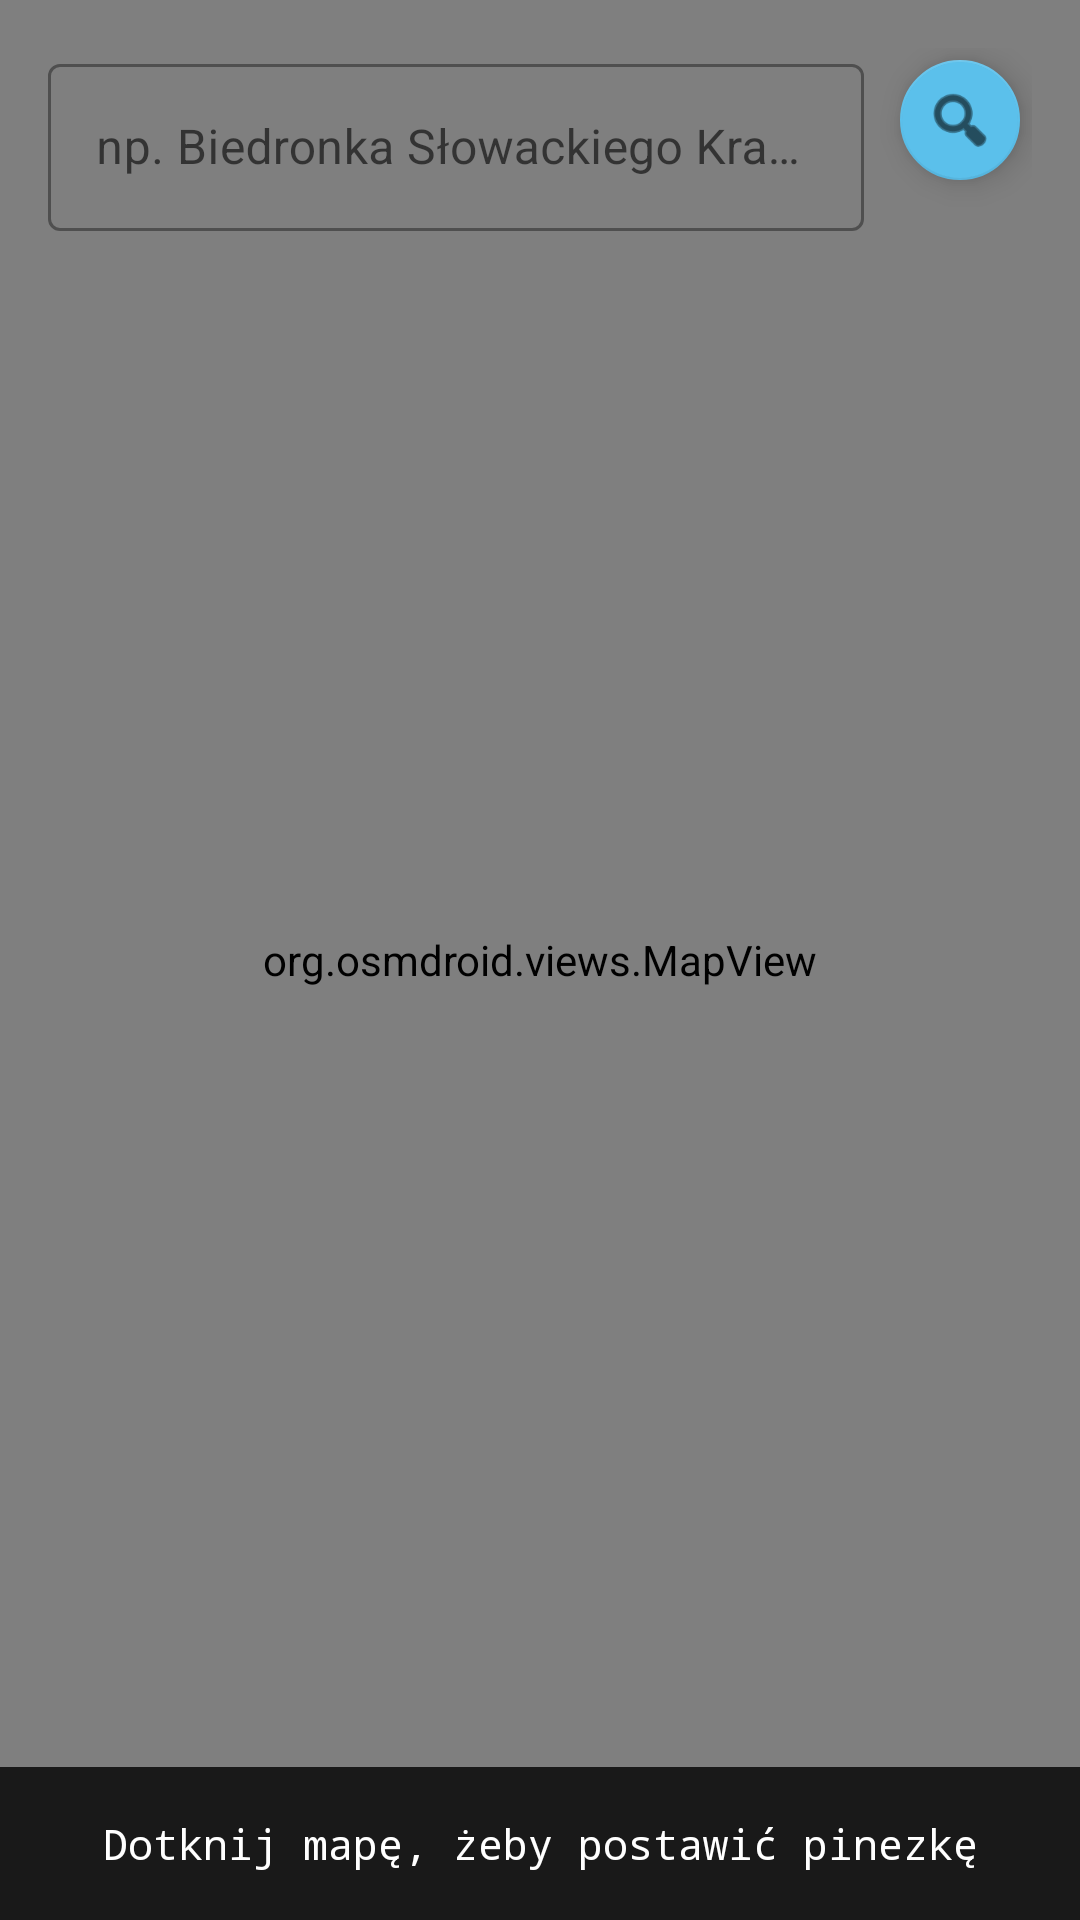

Where icons sit on this 1080x1920 app screen, as region(x1, y1, x2, y2):
Szukaj adresu: region(900, 60, 1020, 180)
